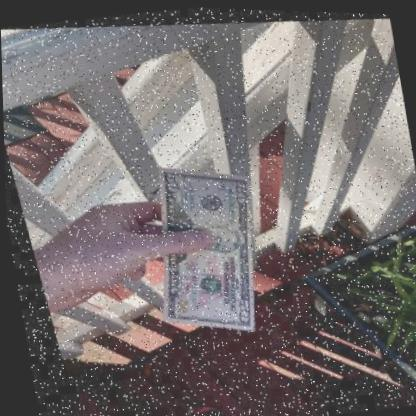dollar_front: (154, 163, 246, 326)
